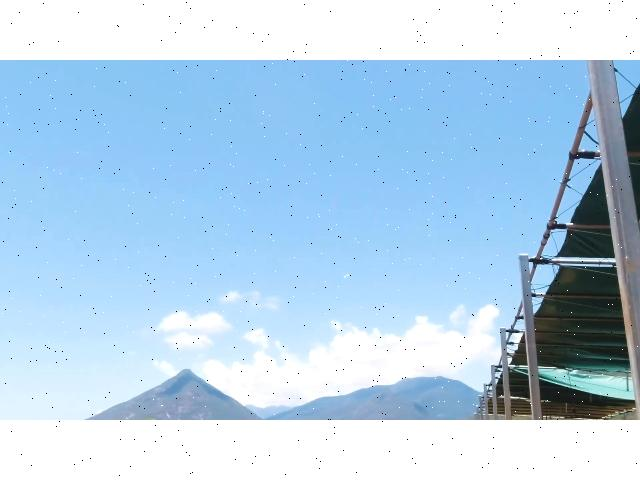Anti-Drone: (338, 266, 360, 286)
